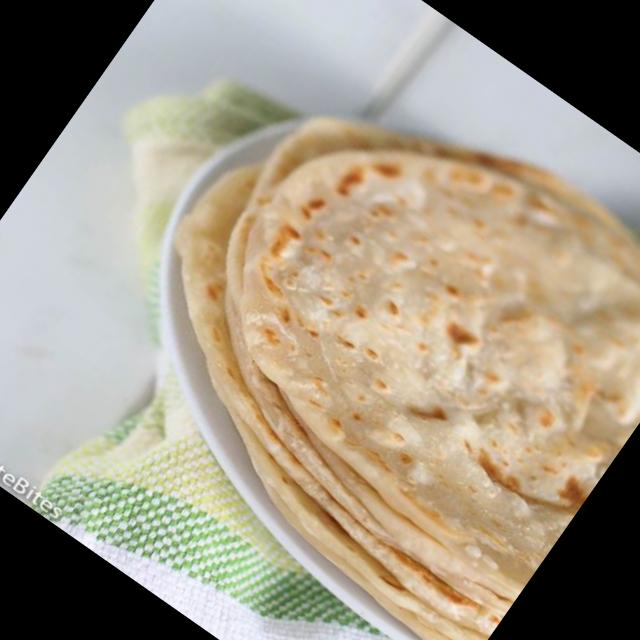roti: (171, 117, 640, 640)
